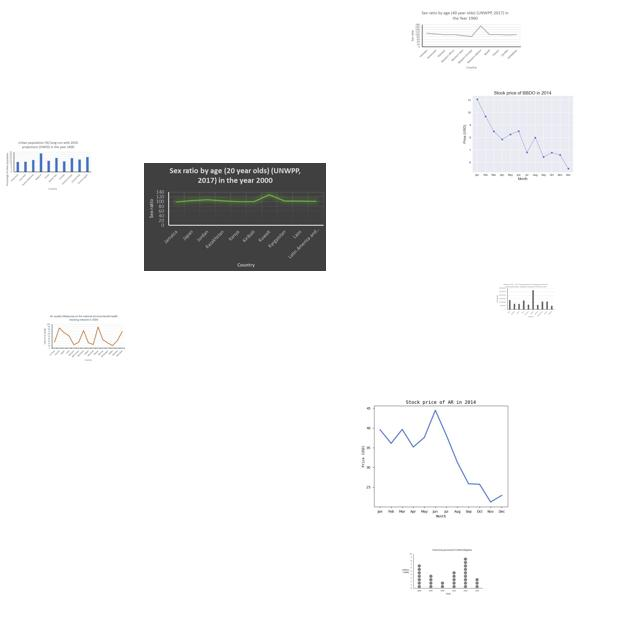Graph: (343, 390, 534, 521), (144, 163, 326, 271), (449, 84, 593, 183), (408, 8, 522, 70), (4, 140, 93, 191), (399, 547, 485, 597), (41, 313, 126, 362), (496, 283, 555, 318)
